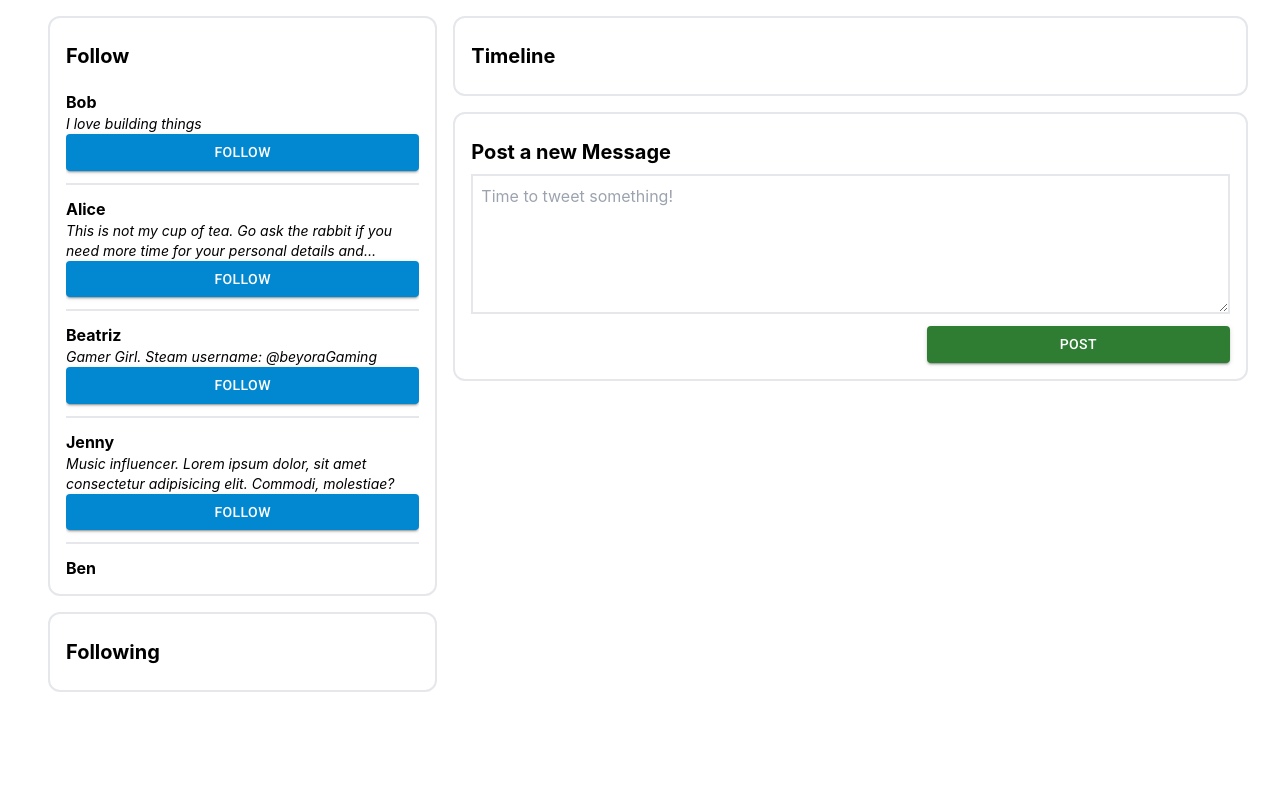
it: New Message form › Message should be displayed in the timeline
This screenshot has width=1280, height=800.
Type "Find this in the timeline" into the text box named "newPost" at (851, 244), box [471,174,1230,314]
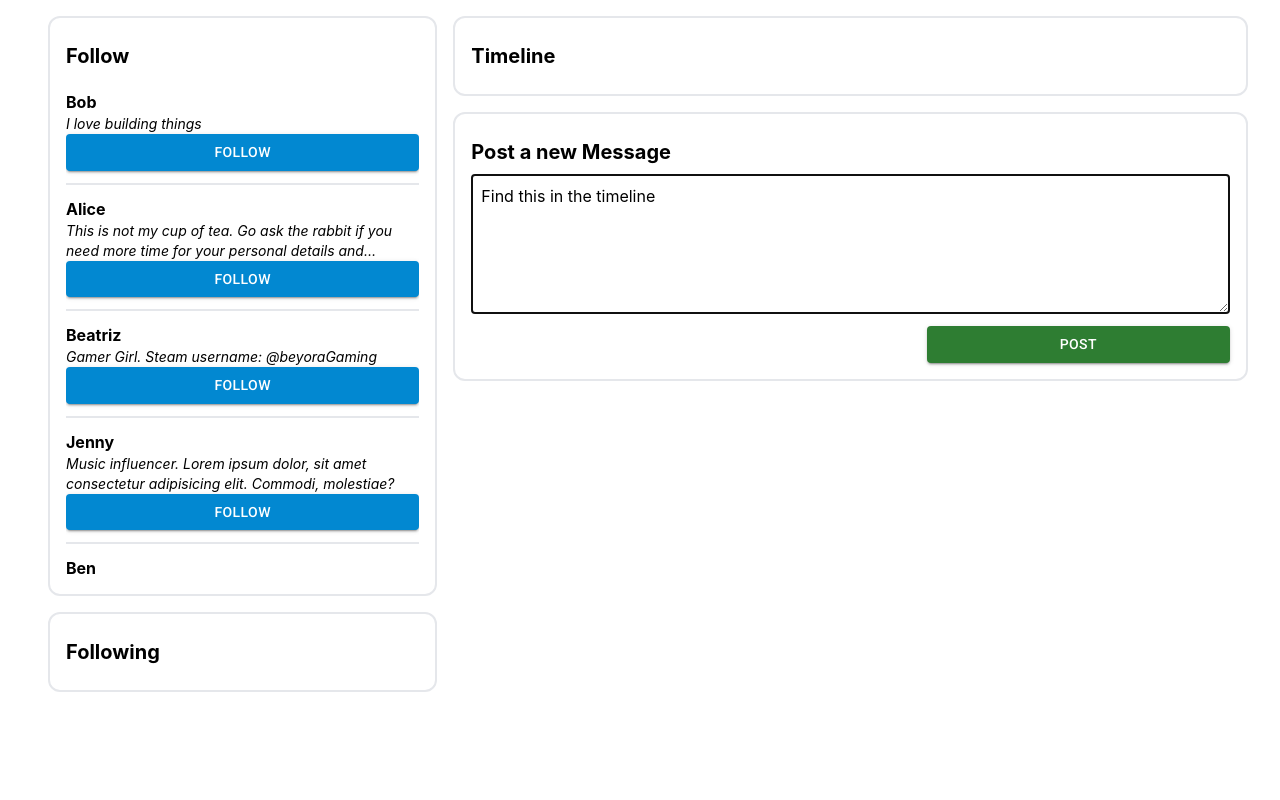
Click the button with test id "submitPost" at (1079, 345), box [927,326,1231,363]
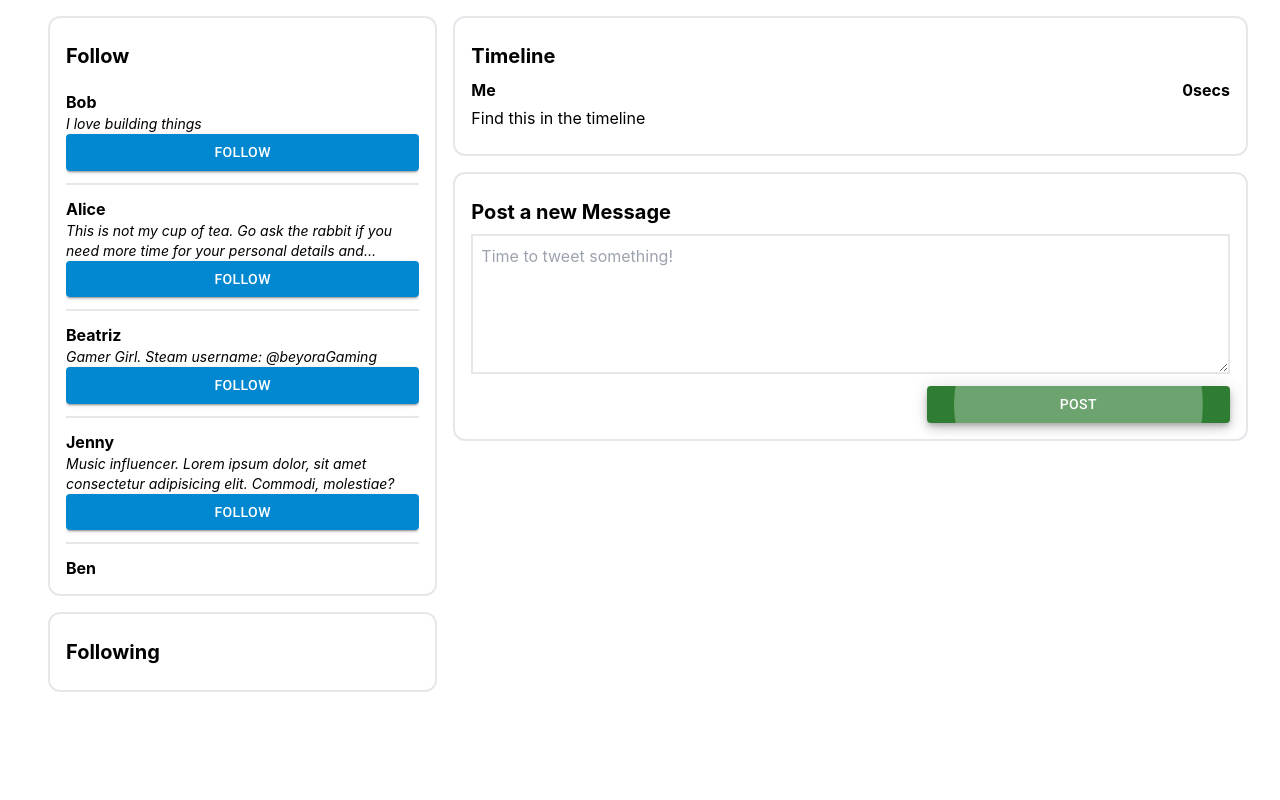
expect the text "Find this in the timeline" is shown: met, box [471,106,645,130]
